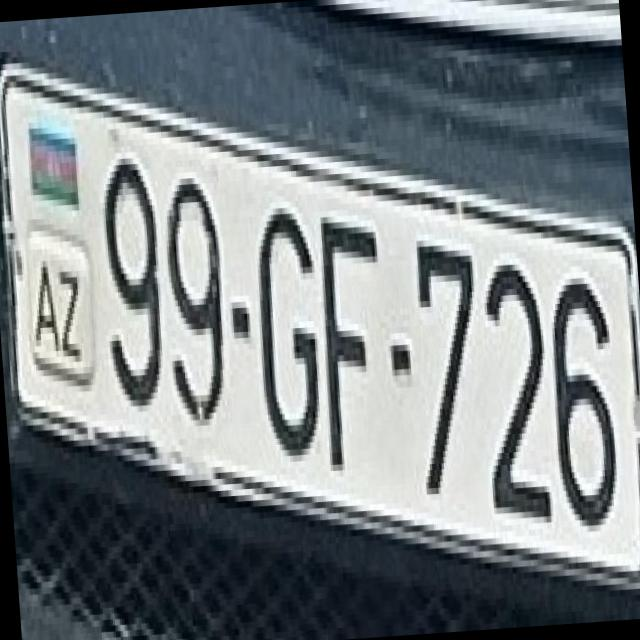2: (468, 244, 560, 526)
6: (536, 258, 626, 528)
7: (396, 218, 492, 496)
9: (146, 158, 240, 422), (86, 138, 172, 408)
F: (302, 182, 396, 466)
G: (240, 181, 334, 464)
